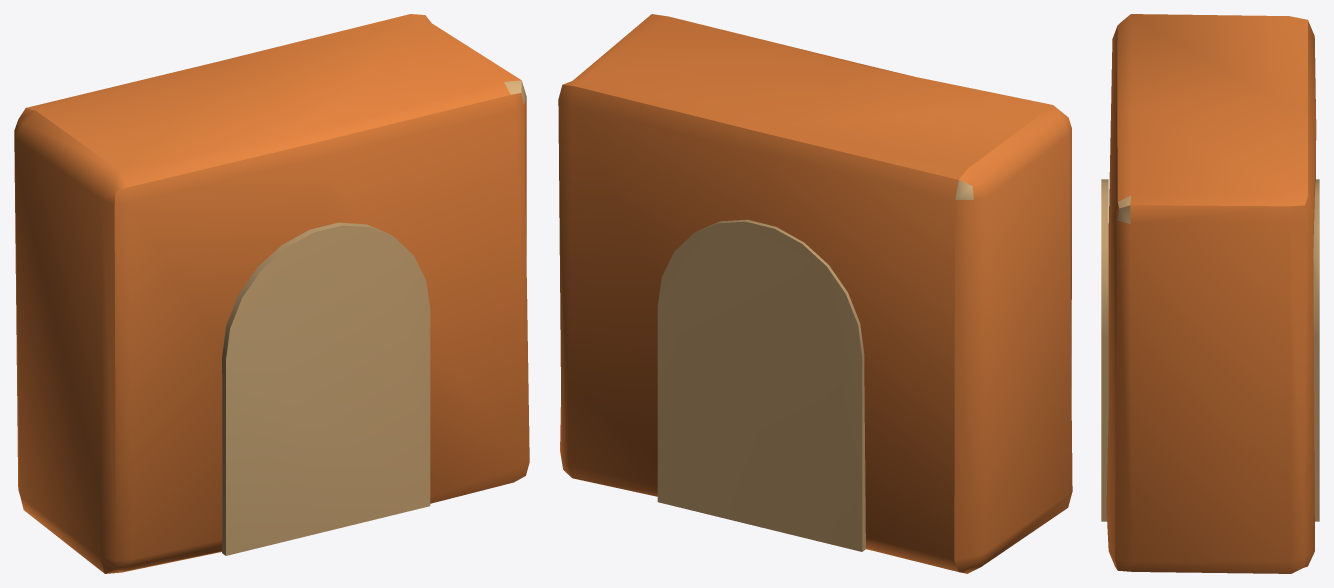
The model's file is den_castle_wall.glb.
The picture shows the model from 3 angles, left to right: view 1: azimuth 30°, elevation 25°; view 2: azimuth 150°, elevation 25°; view 3: azimuth 270°, elevation 25°; orthographic projection. The views are drawn at different scales.
Visible parts, largest first — view 1: den_castle_wall; view 2: den_castle_wall; view 3: den_castle_wall.
Boxes of the visible parts, x1,y1,x2,y2 form: den_castle_wall: (14,14,529,573); den_castle_wall: (558,14,1072,573); den_castle_wall: (1101,14,1319,573).
Size of the model in its own units: 5.03 by 4.57 by 2.36.
